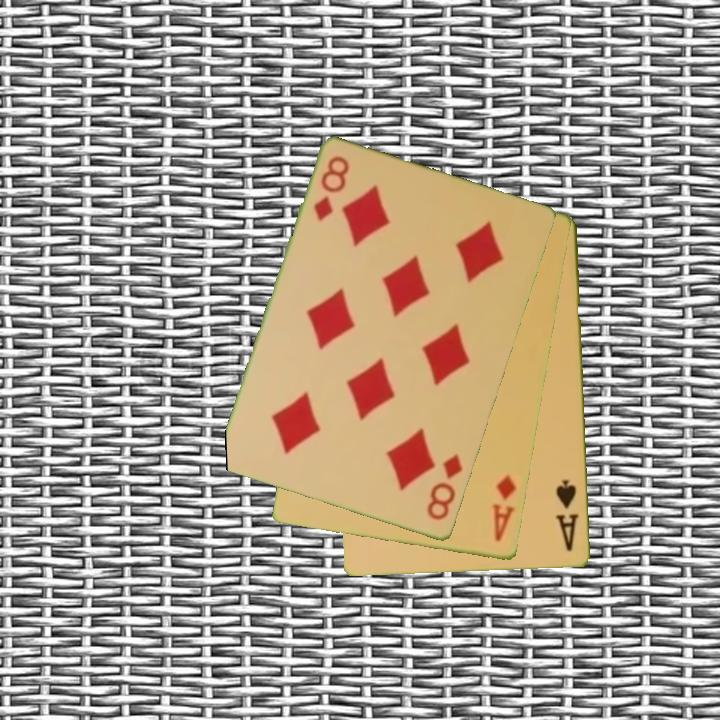8d: (423, 450, 466, 524), (310, 153, 353, 225)
Ad: (489, 472, 519, 545)
As: (552, 477, 581, 555)
